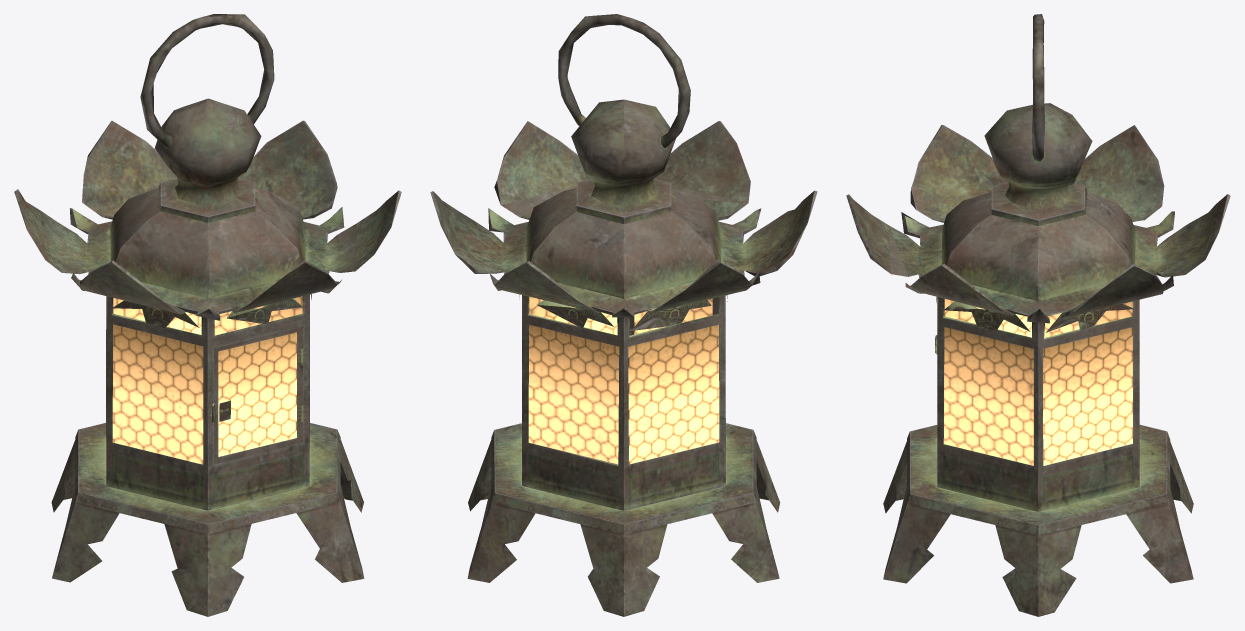
The model's file is SM_Lanter_L1.fbx.
3 renders of one model, left to right at view 1: azimuth 30°, elevation 25°; view 2: azimuth 150°, elevation 25°; view 3: azimuth 270°, elevation 25°, orthographic.
Visible parts, largest first — view 1: SM_Lanter_L1_LOD0; view 2: SM_Lanter_L1_LOD0; view 3: SM_Lanter_L1_LOD0.
Part boxes in pixels (left/top/right/bottom): SM_Lanter_L1_LOD0: left=14, top=14, right=401, bottom=616; SM_Lanter_L1_LOD0: left=430, top=14, right=817, bottom=616; SM_Lanter_L1_LOD0: left=846, top=14, right=1230, bottom=616.
Bounding box in the file's own units: 75.25 × 80.91 × 121.
